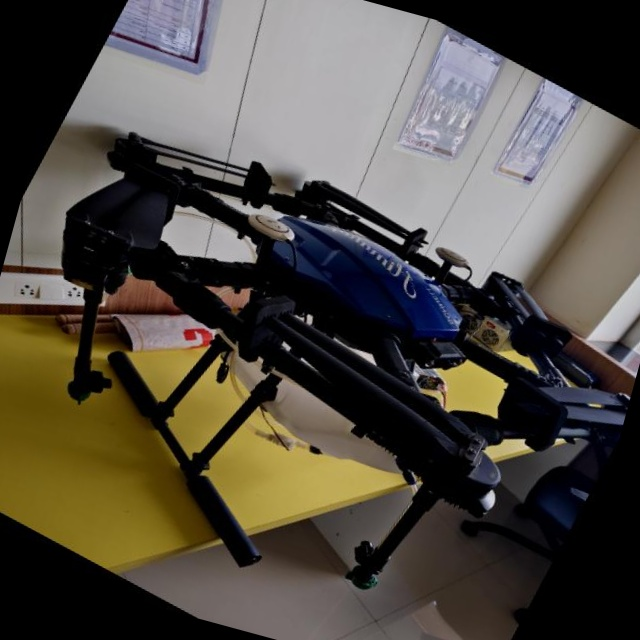agriculturedrone: (0, 48, 640, 640)
